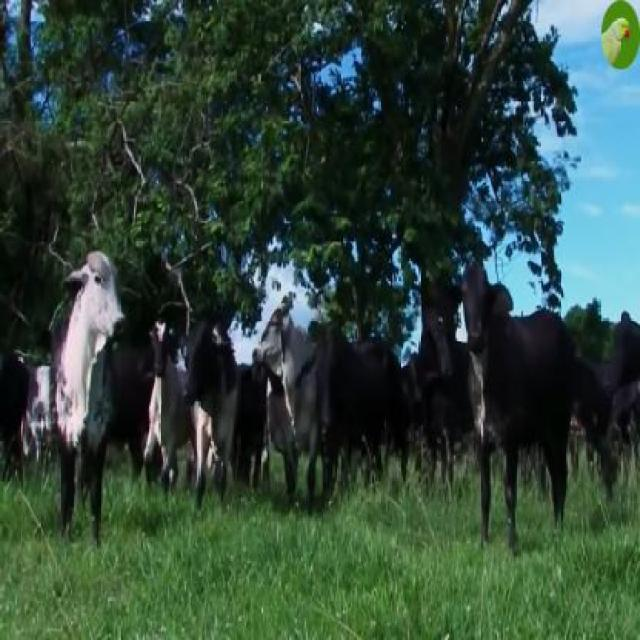Cow: (442, 268, 572, 537)
